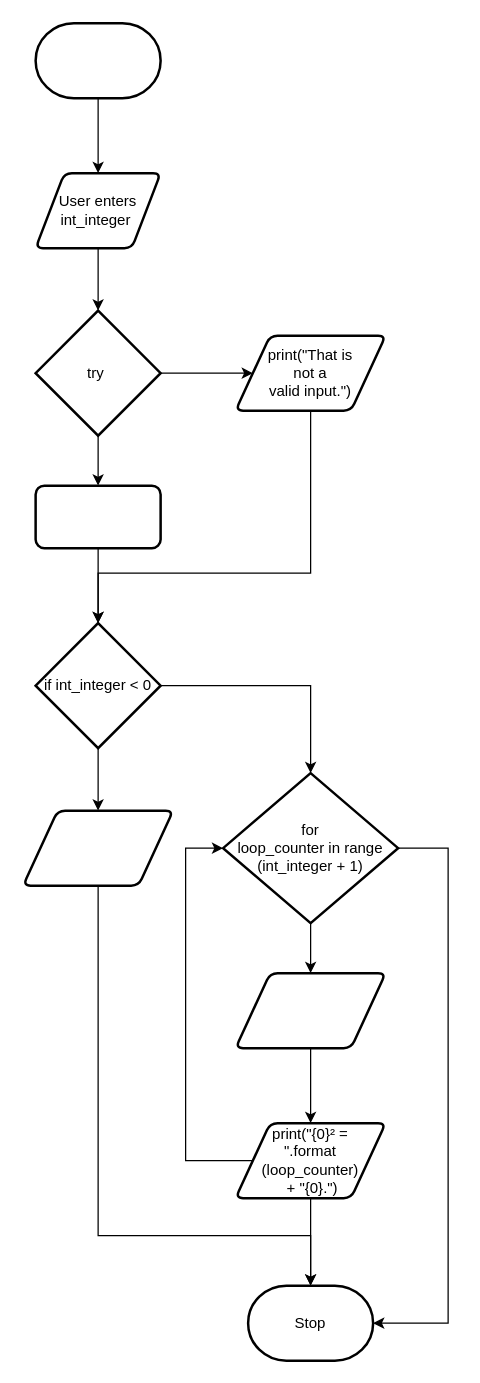
This 480x1383 diagram has some shape labels left out. Each missing label, with the centre of its shape:
answer = loop_counter * loop_counter: (310,1010)
convert string to int: (97,516)
print("This is not a positive number."): (97,847)
Start: (97,60)
